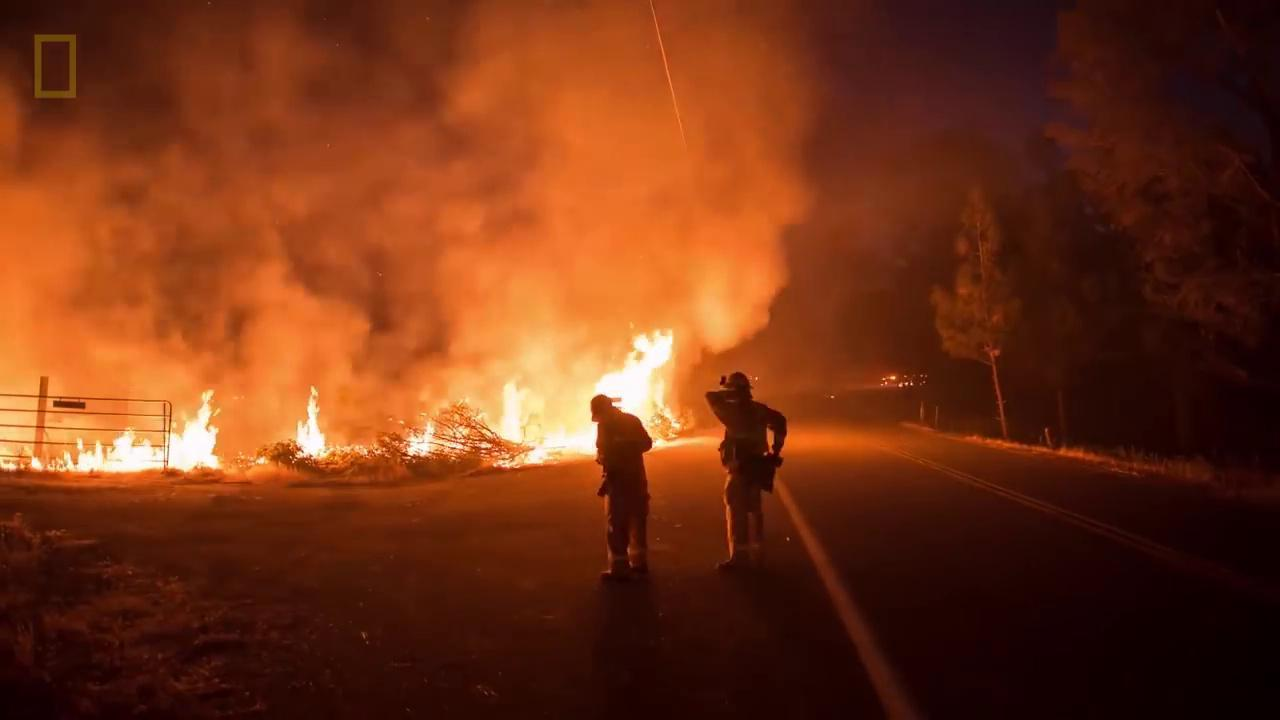Fire: (5, 394, 233, 476), (475, 348, 594, 471), (605, 321, 691, 448), (290, 385, 338, 460), (402, 416, 442, 459)
